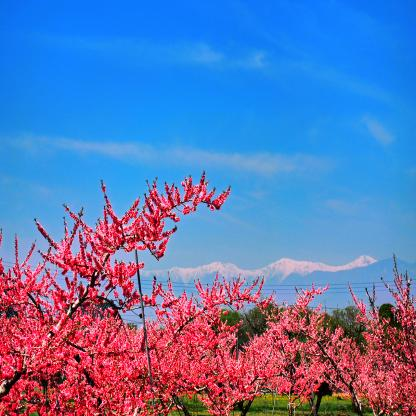Momo: (1, 168, 416, 416)
